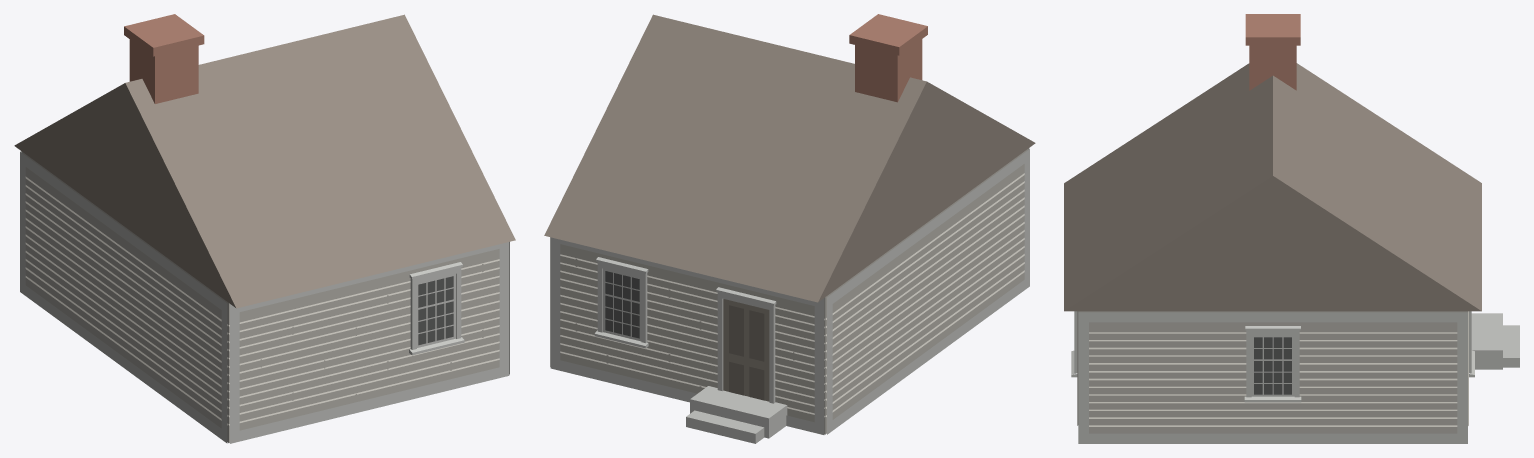
Rendered from recon_1835_blk_south_water_clark_d3_03__inferred_1835.glb.
3 renders of one model, left to right at view 1: azimuth 30°, elevation 25°; view 2: azimuth 150°, elevation 25°; view 3: azimuth 270°, elevation 25°, orthographic. The views are drawn at different scales.
Parts seen in each view (by area): view 1: recon_1835_blk_south_water_clark_d3_03__inferred_1835; view 2: recon_1835_blk_south_water_clark_d3_03__inferred_1835; view 3: recon_1835_blk_south_water_clark_d3_03__inferred_1835.
Part boxes in pixels (left/top/right/bottom): recon_1835_blk_south_water_clark_d3_03__inferred_1835: left=14, top=14, right=515, bottom=443; recon_1835_blk_south_water_clark_d3_03__inferred_1835: left=544, top=14, right=1035, bottom=443; recon_1835_blk_south_water_clark_d3_03__inferred_1835: left=1064, top=14, right=1519, bottom=443.
Bounding box in the file's own units: 5.54 × 6.02 × 8.09.
